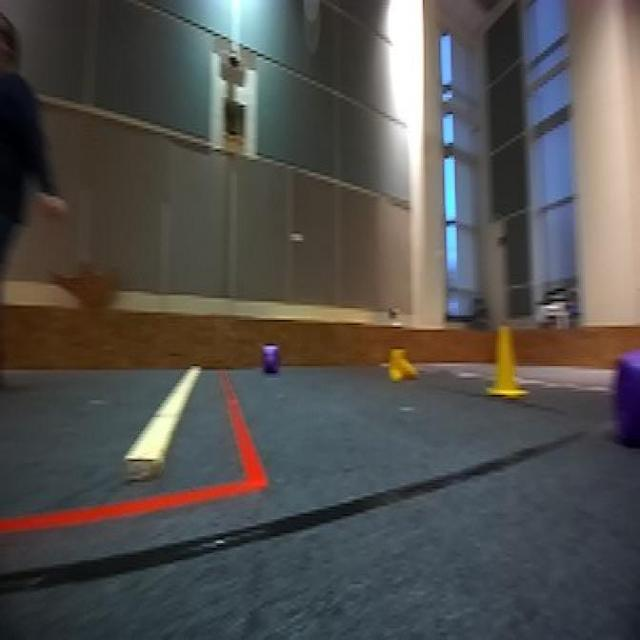frc_cone: (486, 324, 523, 405), (385, 346, 417, 381)
frc_cube: (605, 325, 640, 456), (259, 344, 281, 378)
